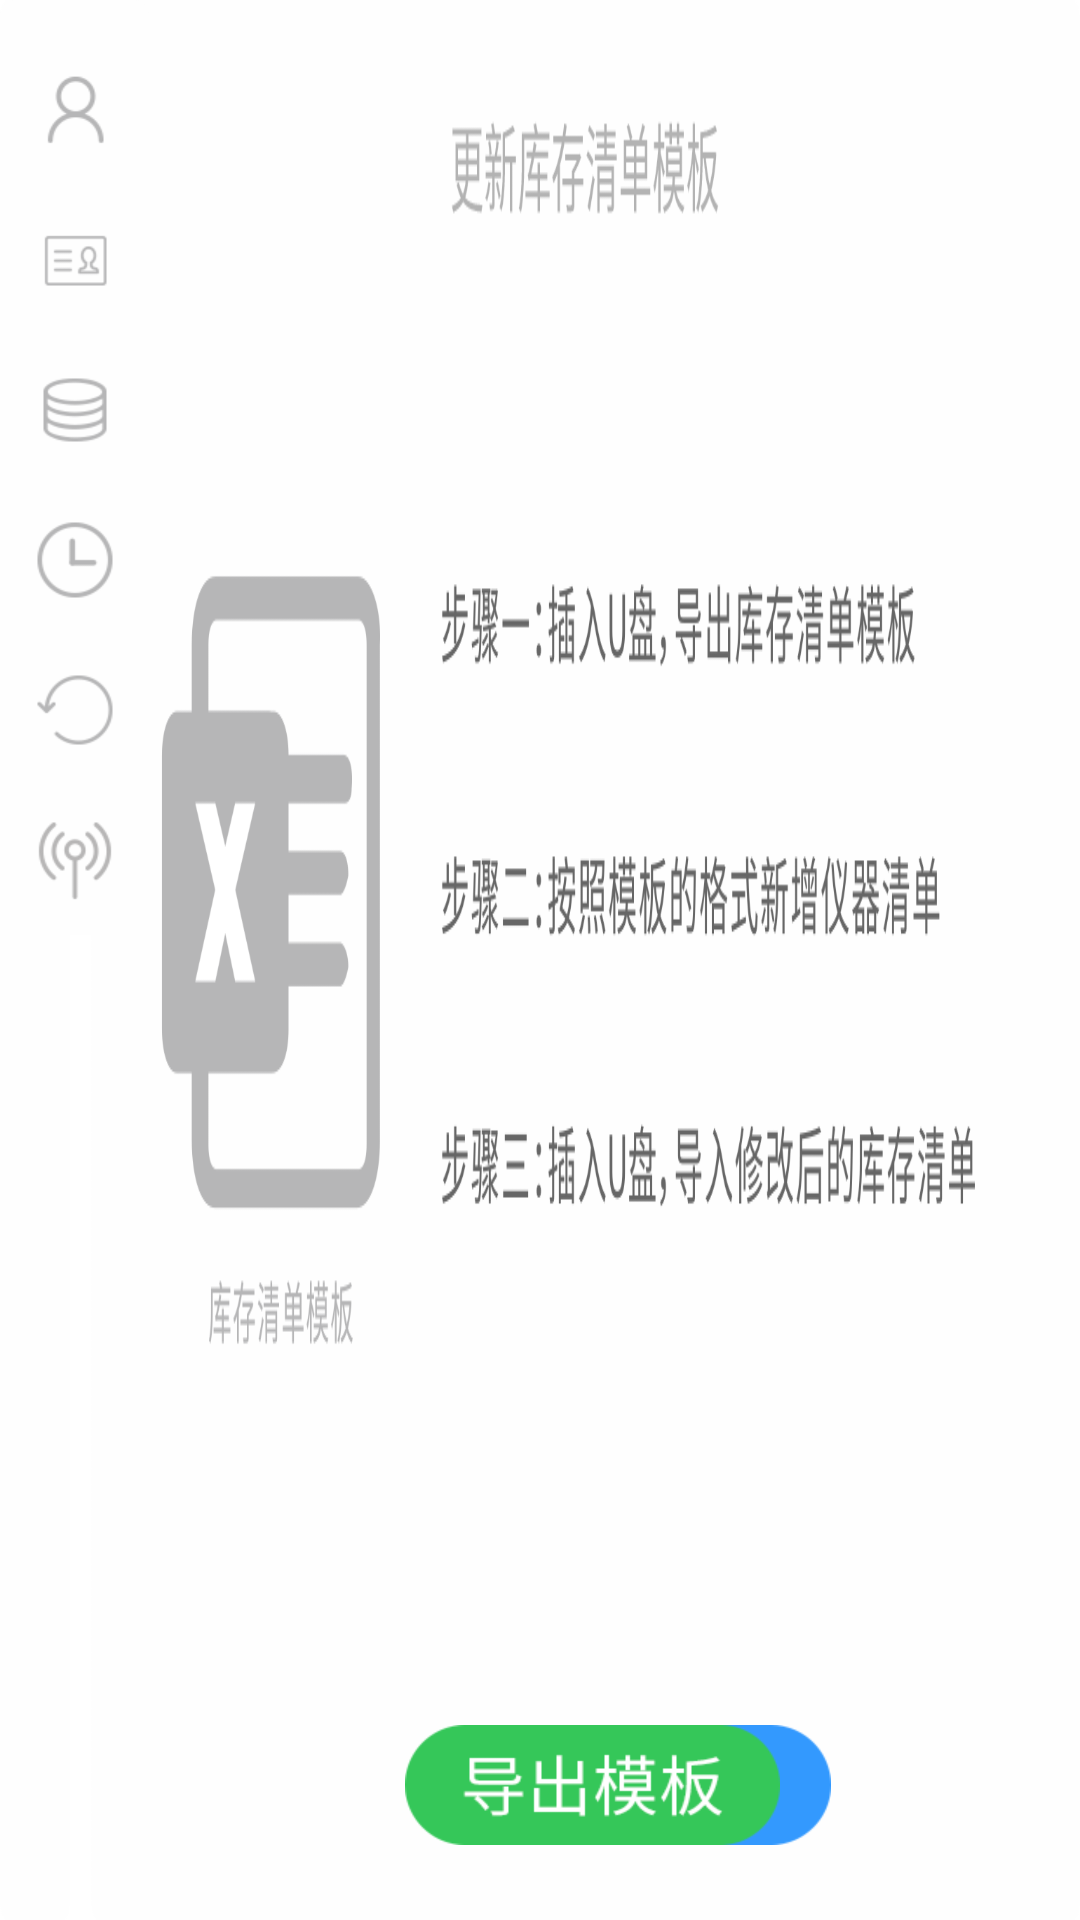

Where to tap for icons on this 1080 x 1920 app screen, as (x,y):
settings tab id: (76,261)
settings tab info: (76,109)
settings tab reset: (75,710)
settings tab stock: (75,410)
settings tab time: (75,560)
